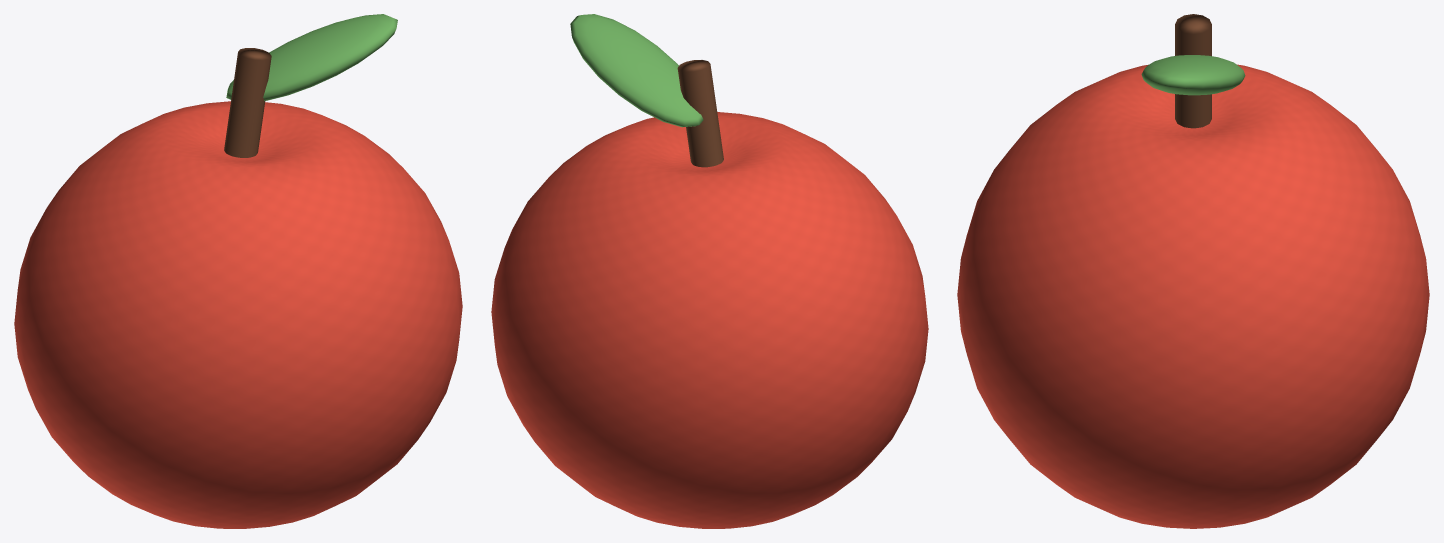
Rendered from APPLE.glb.
The picture shows the model from 3 angles, left to right: view 1: azimuth 30°, elevation 25°; view 2: azimuth 150°, elevation 25°; view 3: azimuth 270°, elevation 25°; orthographic projection. The views are drawn at different scales.
Parts seen in each view (by area): view 1: APPLE; view 2: APPLE; view 3: APPLE.
Boxes of the visible parts, left/top/right/bottom form: APPLE: left=14, top=14, right=462, bottom=528; APPLE: left=491, top=14, right=928, bottom=528; APPLE: left=957, top=14, right=1429, bottom=528.
Size of the model in its own units: 0.24 by 0.2709 by 0.23.
Materials: 3 (1 with a texture image).
